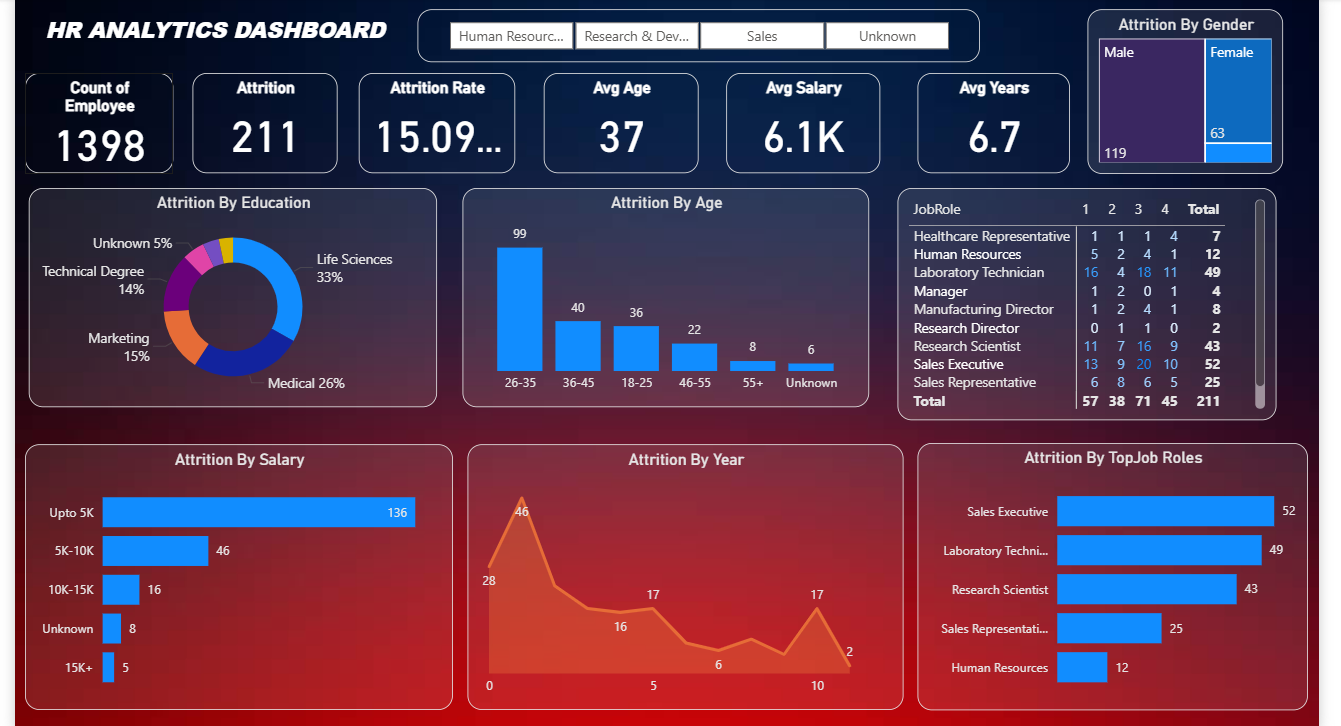

This screenshot's page, from the dashboard's own definition file:
{"tool":"powerbi","page":{"name":"Page 1","canvas":[1280,720],"ordinal":0},"visuals":[{"type":"card","title":"Count of Employee","fields":{"Values":["CountNonNull(HR_Cbi.EmpID)"]},"box":[9.6,74.1,145.5,98.8],"z":0},{"type":"card","title":"Attrition","fields":{"Values":["Sum(HR_Cbi.AttritionCount)"]},"box":[174.3,74.1,142.7,98.8],"z":1000},{"type":"card","title":"Attrition Rate","fields":{"Values":["HR_Cbi.Attrition Rate"]},"box":[337.6,74.1,153.7,98.8],"z":2000},{"type":"card","title":"Avg Age","fields":{"Values":["Avg(HR_Cbi.Age)"]},"box":[518.7,74.1,152.3,98.8],"z":3000},{"type":"card","title":"Avg Salary","fields":{"Values":["Avg(HR_Cbi.MonthlyIncome)"]},"box":[698.5,74.1,150.9,98.8],"z":4000},{"type":"card","title":"Avg Years","fields":{"Values":["Avg(HR_Cbi.YearsAtCompany)"]},"box":[886.5,74.1,149.6,98.8],"z":5000},{"type":"donutChart","title":"Attrition By Education","fields":{"Category":["HR_Cbi.EducationField"],"Y":["Sum(HR_Cbi.AttritionCount)"]},"box":[13.7,186.6,400.7,215.4],"z":6000},{"type":"columnChart","title":"Attrition By Age","fields":{"Y":["Sum(HR_Cbi.AttritionCount)"],"Category":["HR_Cbi.AgeGroup"]},"box":[439.1,186.6,399.3,215.4],"z":7000},{"type":"pivotTable","fields":{"Rows":["HR_Cbi.JobRole"],"Columns":["HR_Cbi.JobSatisfaction"],"Values":["Sum(HR_Cbi.AttritionCount)"]},"box":[866.3,186.5,371.8,228.2],"z":8000},{"type":"barChart","title":"Attrition By Salary","fields":{"Category":["HR_Cbi.SalarySlab"],"Y":["Sum(HR_Cbi.AttritionCount)"]},"box":[9.6,437.7,419.9,260.7],"z":9000},{"type":"barChart","title":"Attrition By TopJob Roles","fields":{"Category":["HR_Cbi.JobRole","HR_Cbi.SalarySlab"],"Y":["Sum(HR_Cbi.AttritionCount)"]},"box":[886.5,436.4,382.8,262.1],"z":10000},{"type":"areaChart","title":"Attrition By Year","fields":{"Category":["HR_Cbi.YearsAtCompany"],"Y":["Sum(HR_Cbi.AttritionCount)"]},"box":[444.6,437.7,428.1,260.7],"z":11000},{"type":"treemap","title":"Attrition By Gender","fields":{"Group":["HR_Cbi.Gender"],"Values":["Sum(HR_Cbi.AttritionCount)"]},"box":[1052.5,11,192.1,161.9],"z":12000},{"type":"slicer","fields":{"Values":["HR_Cbi.Department"]},"box":[395.2,11,551.6,52.1],"z":13000},{"type":"textbox","box":[16.5,11,360.9,52.1],"z":14000}]}

Visuals, with their boxes on the page's 1280x720 design canvas (x1, y1, x2, y2). These are canvas units, not pixel positions in the 1341x726 screenshot, which may show the page scaled, cropped or inside an application window:
"Count of Employee" card: x1=10, y1=74, x2=155, y2=173
"Attrition" card: x1=174, y1=74, x2=317, y2=173
"Attrition Rate" card: x1=338, y1=74, x2=491, y2=173
"Avg Age" card: x1=519, y1=74, x2=671, y2=173
"Avg Salary" card: x1=698, y1=74, x2=849, y2=173
"Avg Years" card: x1=886, y1=74, x2=1036, y2=173
"Attrition By Education" donutChart: x1=14, y1=187, x2=414, y2=402
"Attrition By Age" columnChart: x1=439, y1=187, x2=838, y2=402
pivotTable - HR_Cbi.JobRole x HR_Cbi.JobSatisfaction: x1=866, y1=186, x2=1238, y2=415
"Attrition By Salary" barChart: x1=10, y1=438, x2=430, y2=698
"Attrition By TopJob Roles" barChart: x1=886, y1=436, x2=1269, y2=698
"Attrition By Year" areaChart: x1=445, y1=438, x2=873, y2=698
"Attrition By Gender" treemap: x1=1052, y1=11, x2=1245, y2=173
slicer - HR_Cbi.Department: x1=395, y1=11, x2=947, y2=63
textbox: x1=16, y1=11, x2=377, y2=63
